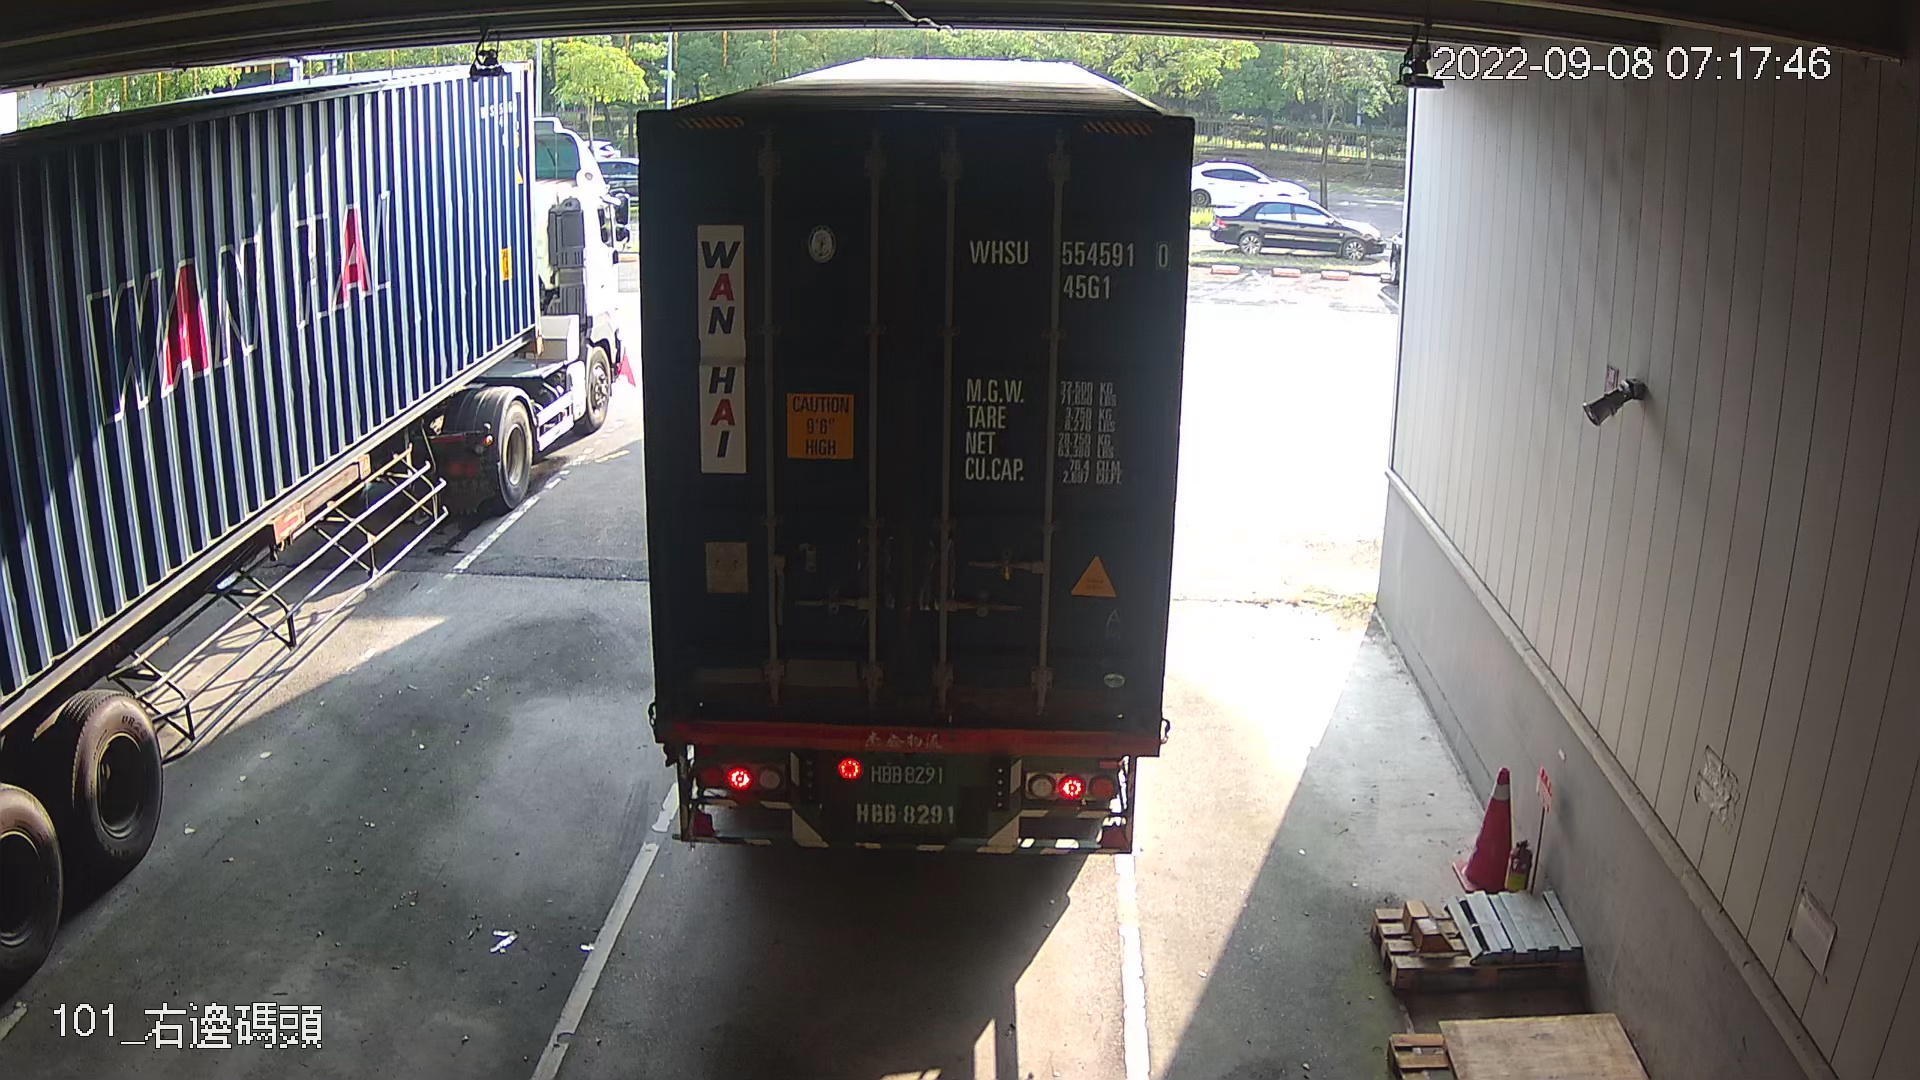container: (961, 225, 1178, 313)
